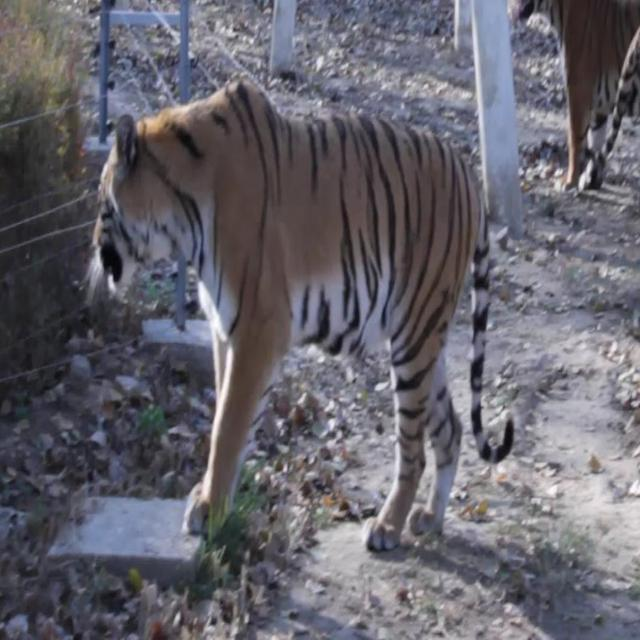tiger: (72, 73, 520, 563), (503, 0, 640, 204)
